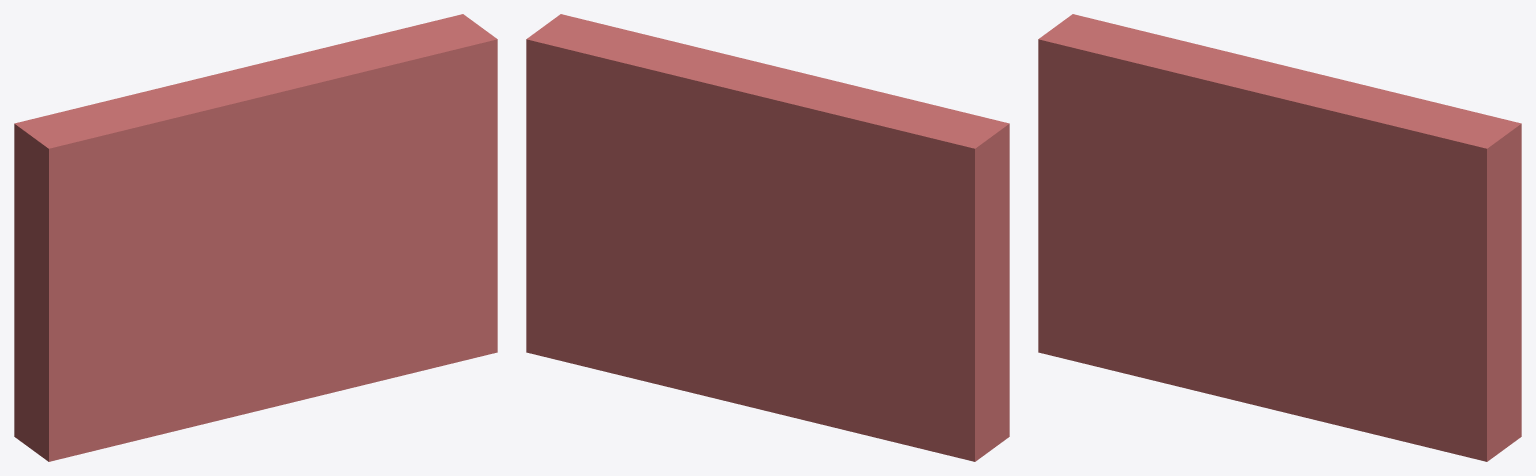
The picture shows the model from 3 angles, left to right: view 1: azimuth 30°, elevation 25°; view 2: azimuth 150°, elevation 25°; view 3: azimuth 330°, elevation 25°; orthographic projection.
Parts seen in each view (by area): view 1: Volume_006_F02-U01_RED, Volume_007_F02-U02_RED; view 2: Volume_006_F02-U01_RED, Volume_007_F02-U02_RED; view 3: Volume_007_F02-U02_RED, Volume_006_F02-U01_RED.
Boxes of the visible parts, x1=… form: Volume_006_F02-U01_RED: x1=14, y1=69, x2=273, y2=461; Volume_007_F02-U02_RED: x1=228, y1=14, x2=497, y2=406; Volume_006_F02-U01_RED: x1=750, y1=69, x2=1009, y2=461; Volume_007_F02-U02_RED: x1=526, y1=14, x2=803, y2=413; Volume_007_F02-U02_RED: x1=1234, y1=69, x2=1521, y2=461; Volume_006_F02-U01_RED: x1=1038, y1=14, x2=1296, y2=400.
Bounding box in the file's own units: 24 × 16 × 3.2.
